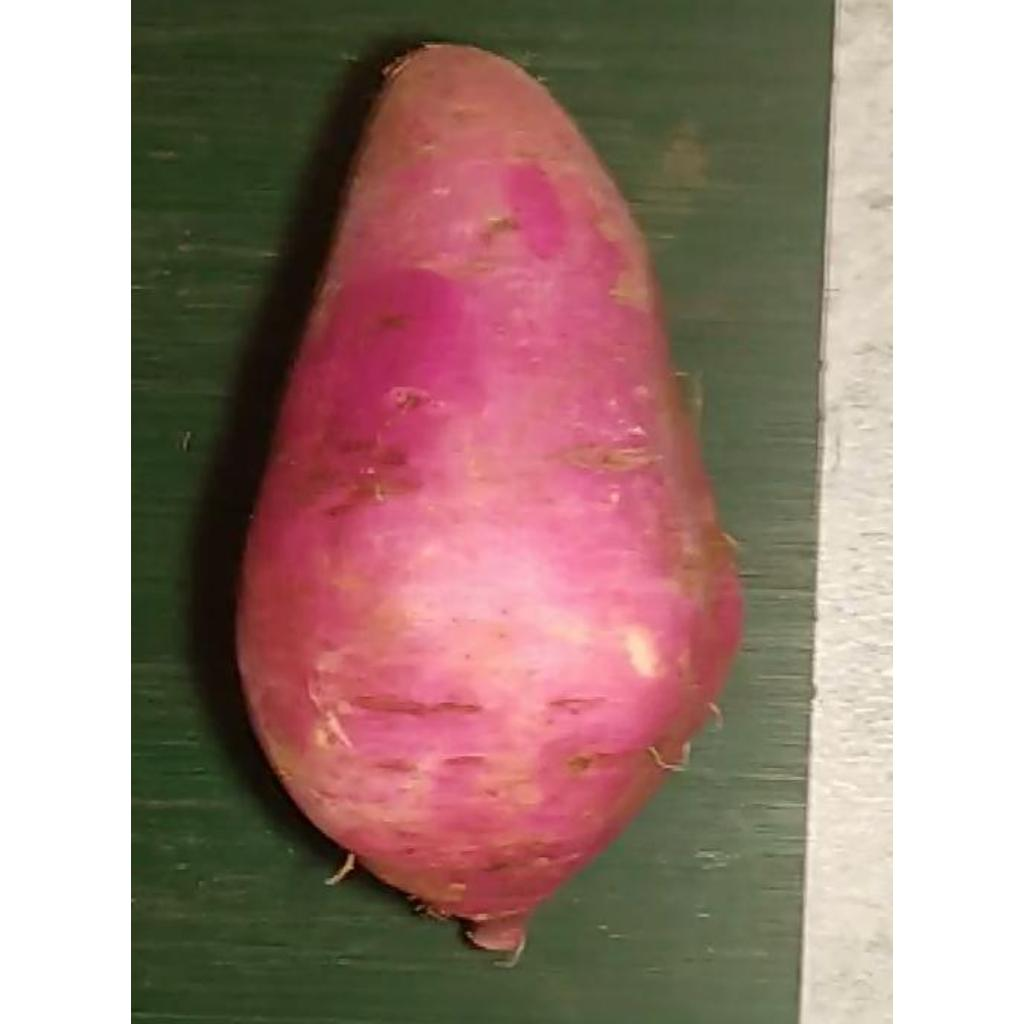Sweet Potato: (234, 42, 747, 923)
